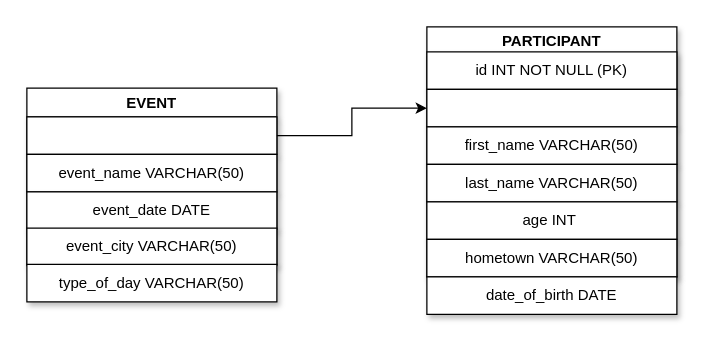
The diagram is 706 pixels wide and 345 high, and some of its shapes have lost their labels. Here are the shapes that lost their labels. From the top down, the centre of each, then its label:
At point (552, 109): "event_id INT NOT NULL (FK)".
At point (152, 137): "event_id INT NOT NULL (PK)".
